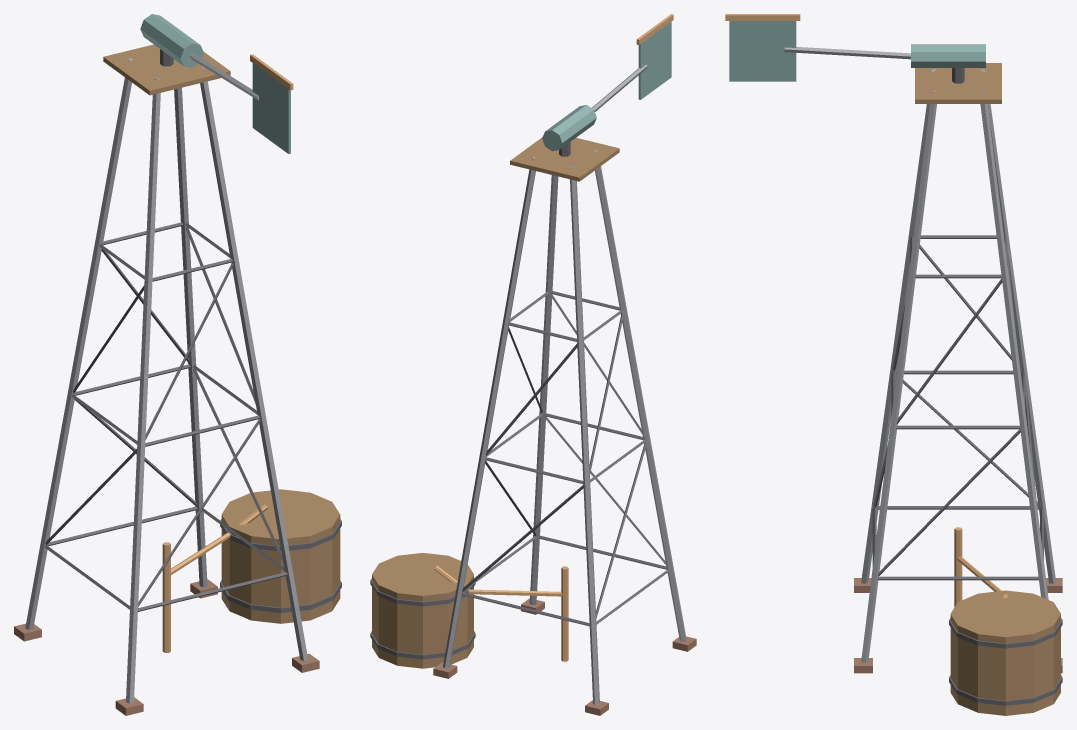
File: lobby_windmill.glb
The picture shows the model from 3 angles, left to right: view 1: azimuth 30°, elevation 25°; view 2: azimuth 150°, elevation 25°; view 3: azimuth 270°, elevation 25°; orthographic projection. The views are drawn at different scales.
Visible parts, largest first — view 1: LobbyWindmill; view 2: LobbyWindmill; view 3: LobbyWindmill.
Part boxes in pixels (x1=…): LobbyWindmill: x1=14, y1=14, x2=341, y2=715; LobbyWindmill: x1=370, y1=14, x2=696, y2=715; LobbyWindmill: x1=725, y1=14, x2=1062, y2=715.
Size of the model in its own units: 3.94 by 8.59 by 4.27.
